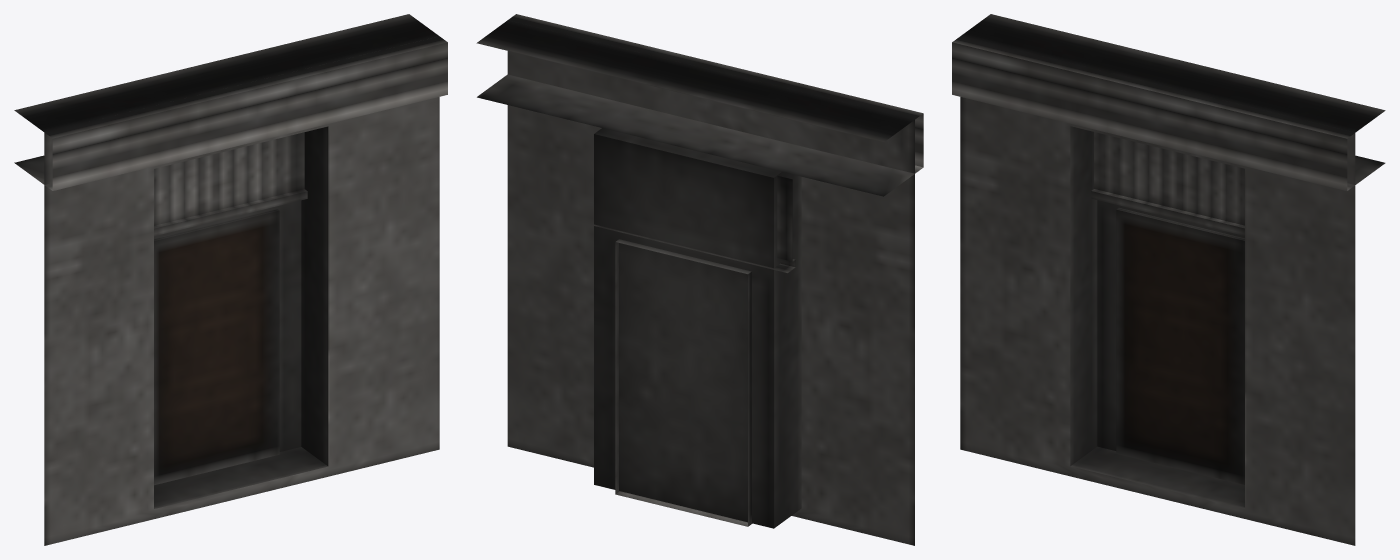
Rendered from B1_FirstFloorDoor.FBX.
3 renders of one model, left to right at view 1: azimuth 30°, elevation 25°; view 2: azimuth 150°, elevation 25°; view 3: azimuth 330°, elevation 25°, orthographic. The views are drawn at different scales.
Visible parts, largest first — view 1: B1_FirstFloorDoor; view 2: B1_FirstFloorDoor; view 3: B1_FirstFloorDoor.
Boxes of the visible parts, x1,y1,x2,y2 form: B1_FirstFloorDoor: (14, 14, 447, 545); B1_FirstFloorDoor: (476, 14, 923, 545); B1_FirstFloorDoor: (952, 14, 1385, 545).
Bounding box in the file's own units: 4 × 4 × 0.6876.
